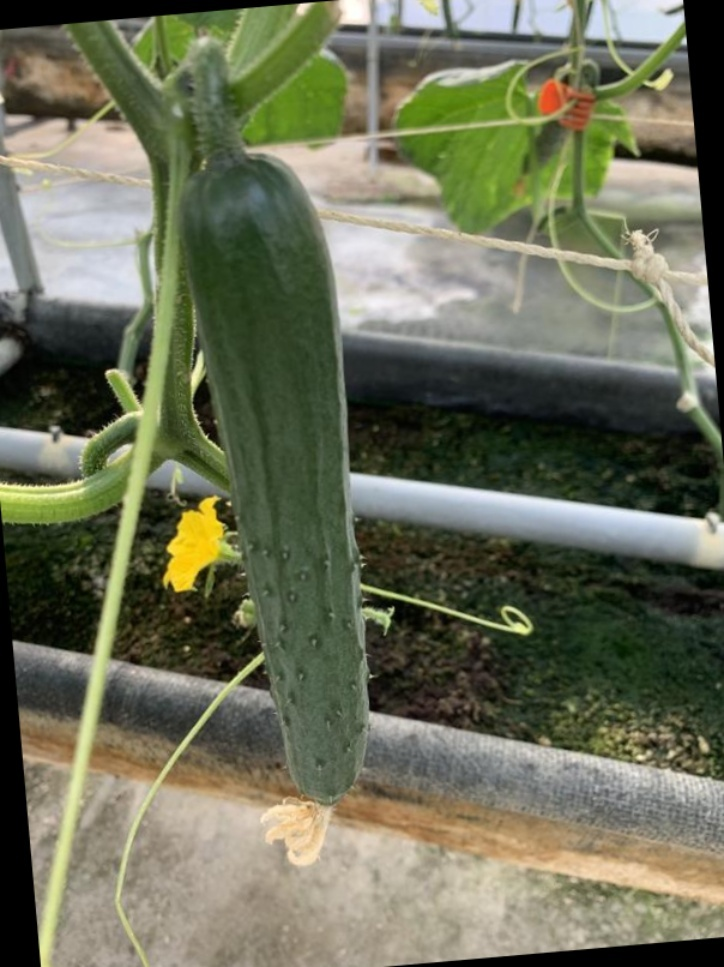mature: (175, 177, 379, 815)
